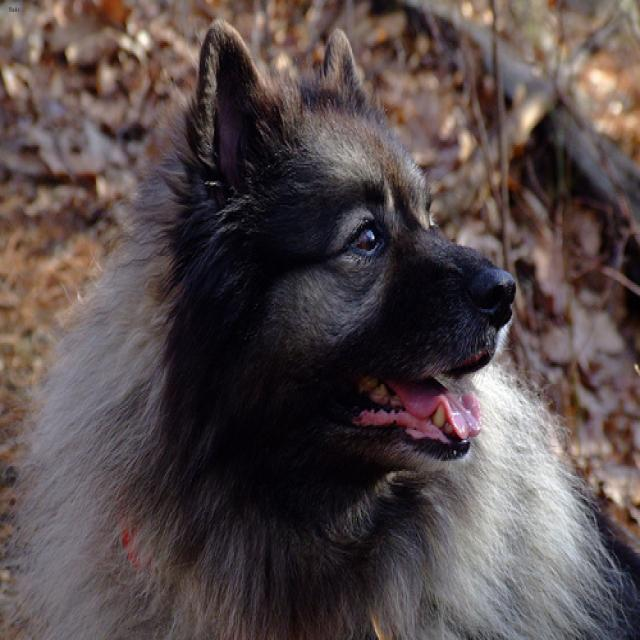dog-keeshond: (1, 2, 637, 637)
